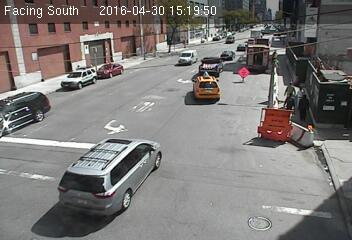neg: (51, 39, 83, 83), (323, 48, 350, 83), (86, 5, 111, 39), (208, 125, 229, 154), (21, 88, 42, 115), (150, 19, 171, 46), (162, 176, 181, 201), (72, 106, 90, 130), (149, 80, 167, 103), (212, 73, 228, 95), (266, 22, 281, 43), (112, 146, 127, 166)
pos: (292, 93, 313, 121), (282, 79, 299, 102), (280, 93, 296, 115), (294, 83, 309, 103)
